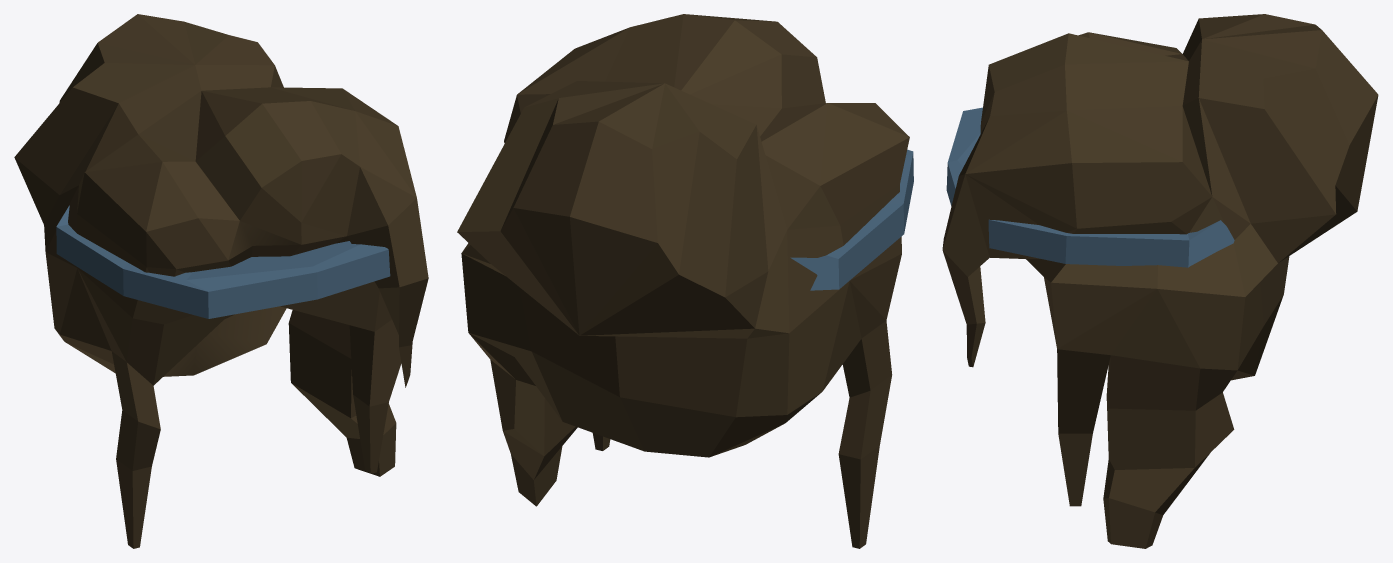
File: Chr_Hair_25_Static.fbx
3 renders of one model, left to right at view 1: azimuth 30°, elevation 25°; view 2: azimuth 150°, elevation 25°; view 3: azimuth 270°, elevation 25°, orthographic. The views are drawn at different scales.
Visible parts, largest first — view 1: Chr_Hair_25_Static; view 2: Chr_Hair_25_Static; view 3: Chr_Hair_25_Static.
Part boxes in pixels (<box>): Chr_Hair_25_Static: <box>14,14,428,548</box>; Chr_Hair_25_Static: <box>457,14,913,548</box>; Chr_Hair_25_Static: <box>942,14,1378,548</box>.
Size of the model in its own units: 0.2867 by 0.376 by 0.3329.
